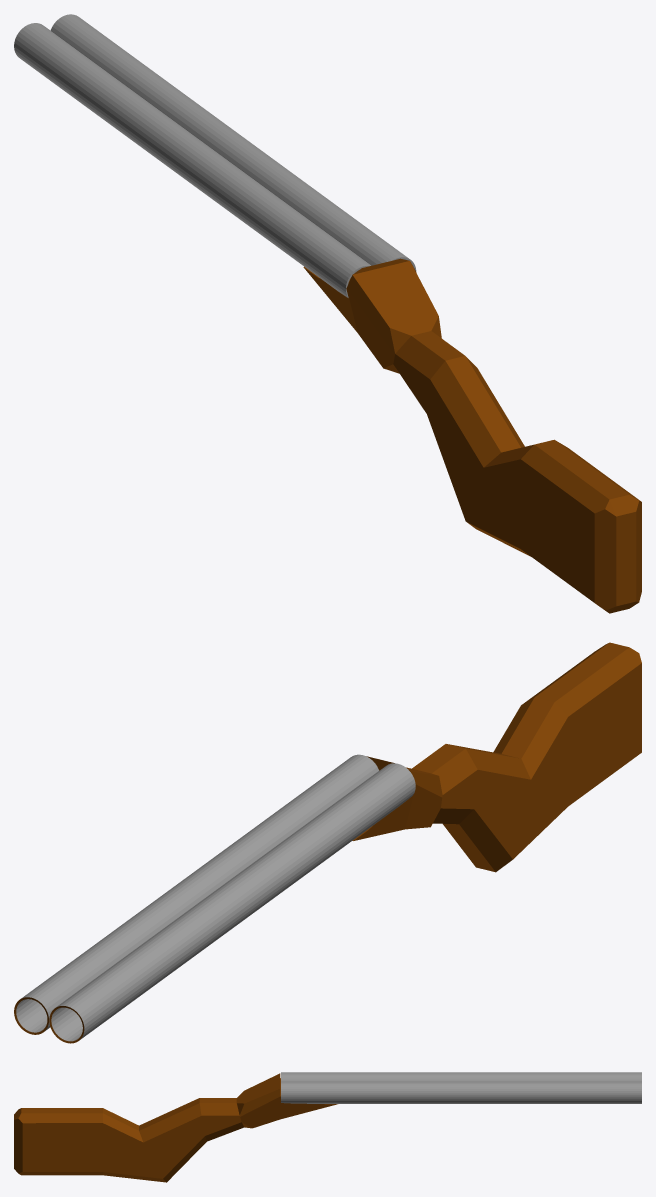
The model's file is shotgun.glb.
The picture shows the model from 3 angles, top to bottom: view 1: azimuth 30°, elevation 25°; view 2: azimuth 150°, elevation 25°; view 3: azimuth 270°, elevation 25°; orthographic projection. The views are drawn at different scales.
Parts seen in each view (by area): view 1: Cube, Cube.001; view 2: Cube.001, Cube; view 3: Cube, Cube.001.
Boxes of the visible parts, box(x1,y1,x2,y2) form: Cube: box(303, 258, 641, 613); Cube.001: box(14, 14, 416, 297); Cube.001: box(16, 754, 415, 1041); Cube: box(14, 642, 641, 1043); Cube: box(14, 1073, 337, 1182); Cube.001: box(281, 1072, 641, 1103).
Bounding box in the file's own units: 0.2987 × 0.7588 × 4.24.
